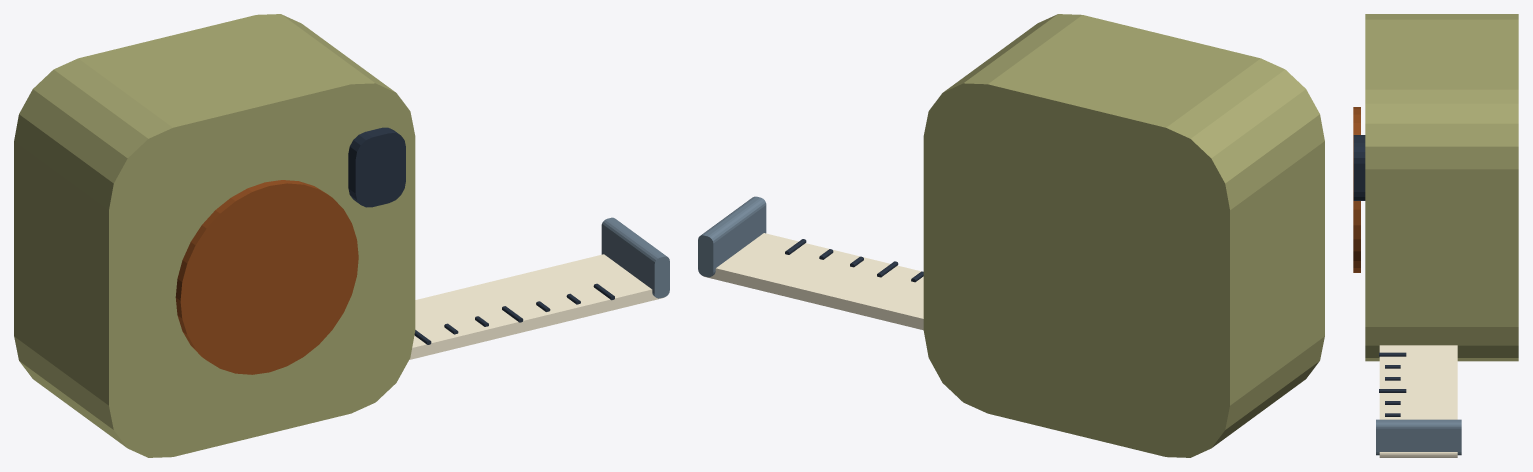
File: taperule.glb
The picture shows the model from 3 angles, left to right: view 1: azimuth 30°, elevation 25°; view 2: azimuth 150°, elevation 25°; view 3: azimuth 270°, elevation 25°; orthographic projection. The views are drawn at different scales.
Parts seen in each view (by area): view 1: housing, case inset, blade, lock button, end hook; view 2: housing, blade, end hook; view 3: housing, blade, end hook, case inset, lock button.
Boxes of the visible parts, left/top/right/bottom form: housing: left=14, top=14, right=415, bottom=457; case inset: left=175, top=180, right=358, bottom=374; blade: left=409, top=254, right=664, bottom=359; lock button: left=348, top=127, right=405, bottom=207; end hook: left=601, top=217, right=669, bottom=298; housing: left=923, top=14, right=1324, bottom=457; blade: left=703, top=233, right=923, bottom=330; end hook: left=698, top=196, right=766, bottom=277; housing: left=1365, top=14, right=1518, bottom=361; blade: left=1379, top=345, right=1457, bottom=457; end hook: left=1376, top=419, right=1461, bottom=455; case inset: left=1353, top=107, right=1360, bottom=272; lock button: left=1353, top=135, right=1365, bottom=200.
Bounding box in the file's own units: 2.04 × 1.13 × 0.637.
